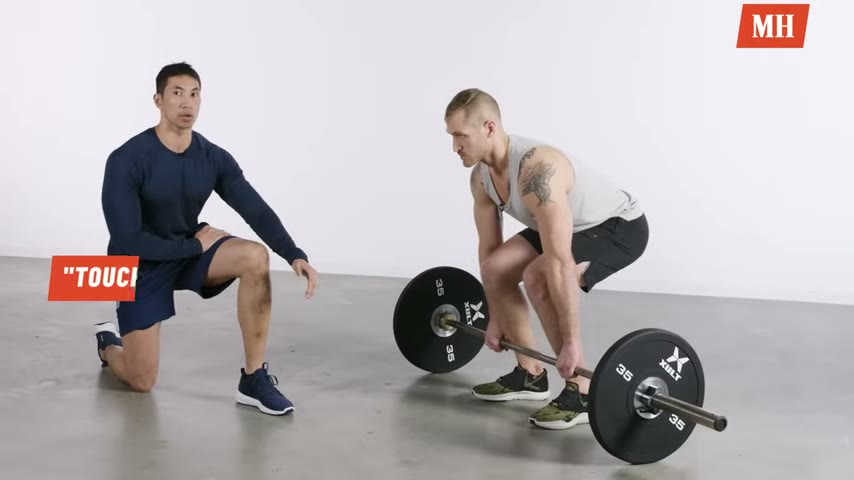barbell_plate_side: (385, 265, 467, 451), (638, 315, 731, 469)
